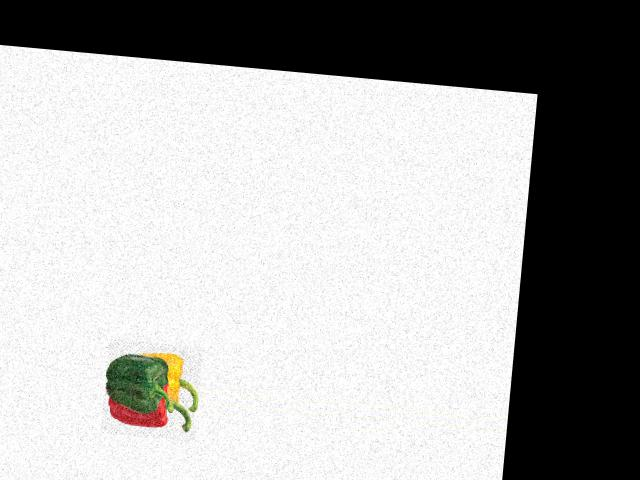bell_pepper: (103, 380, 196, 442)
